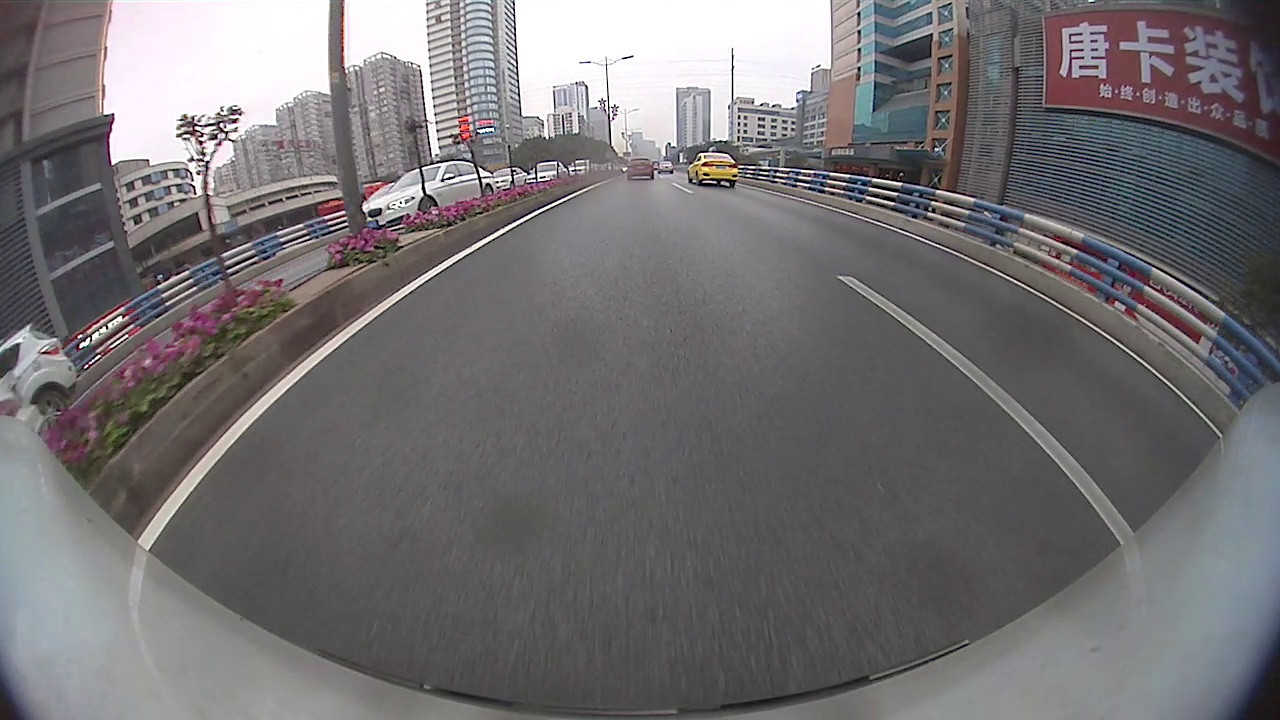car: (350, 157, 500, 233), (1, 319, 80, 440), (686, 144, 742, 189), (524, 158, 571, 185), (492, 164, 529, 192), (626, 156, 656, 181), (567, 156, 602, 177), (657, 159, 675, 175)
front: (420, 198, 438, 216)
rear: (34, 388, 71, 420), (484, 186, 497, 199)
